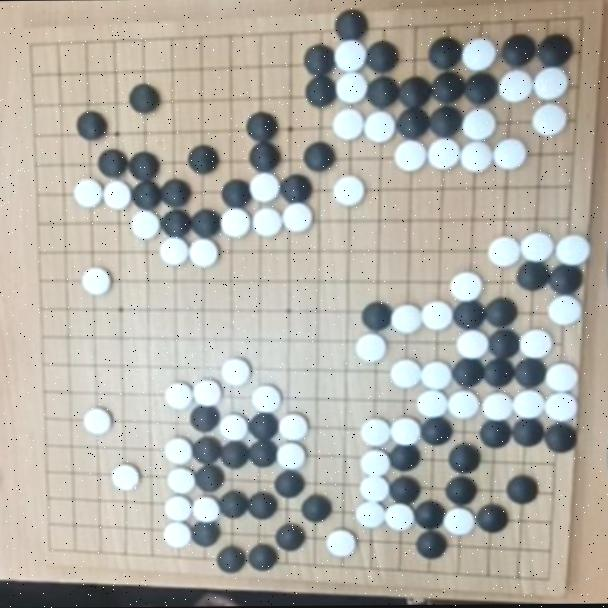corners: (6, 20, 60, 73), (546, 0, 600, 47), (34, 530, 74, 576), (518, 554, 566, 592)
